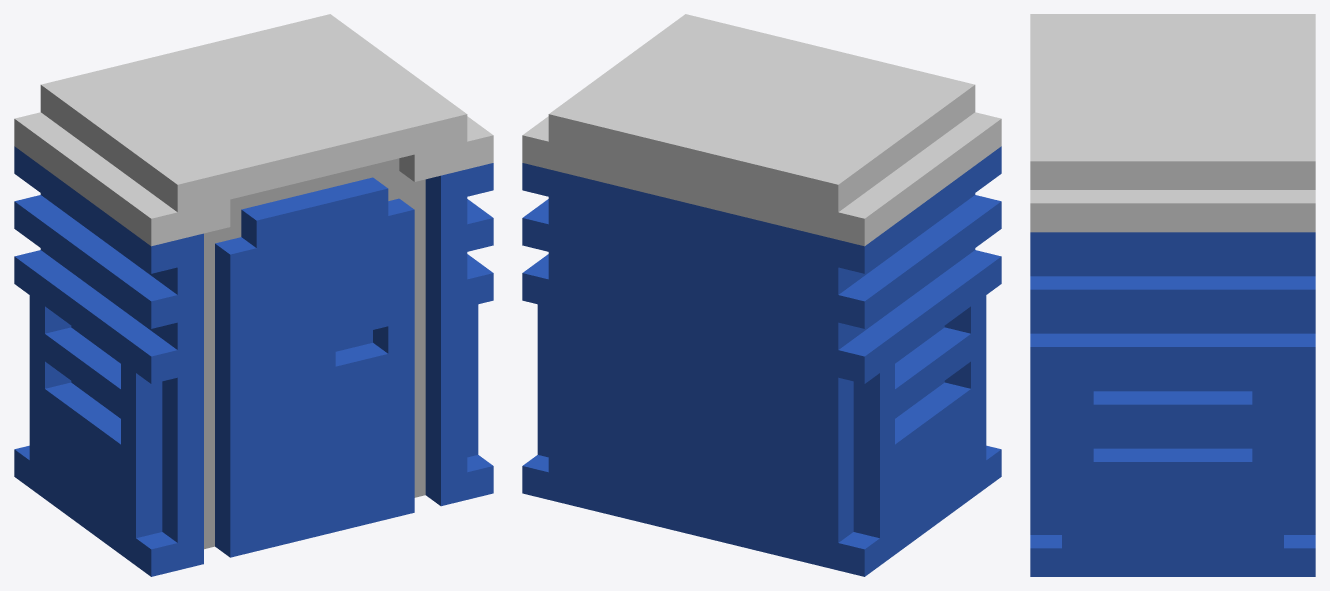
The model's file is tardis.obj.
3 views of the same model, side by side, from view 1: azimuth 30°, elevation 25°; view 2: azimuth 150°, elevation 25°; view 3: azimuth 270°, elevation 25° (orthographic). The views are drawn at different scales.
Size of the model in its own units: 13 by 14 by 9.
Materials: 1 (1 with a texture image).
